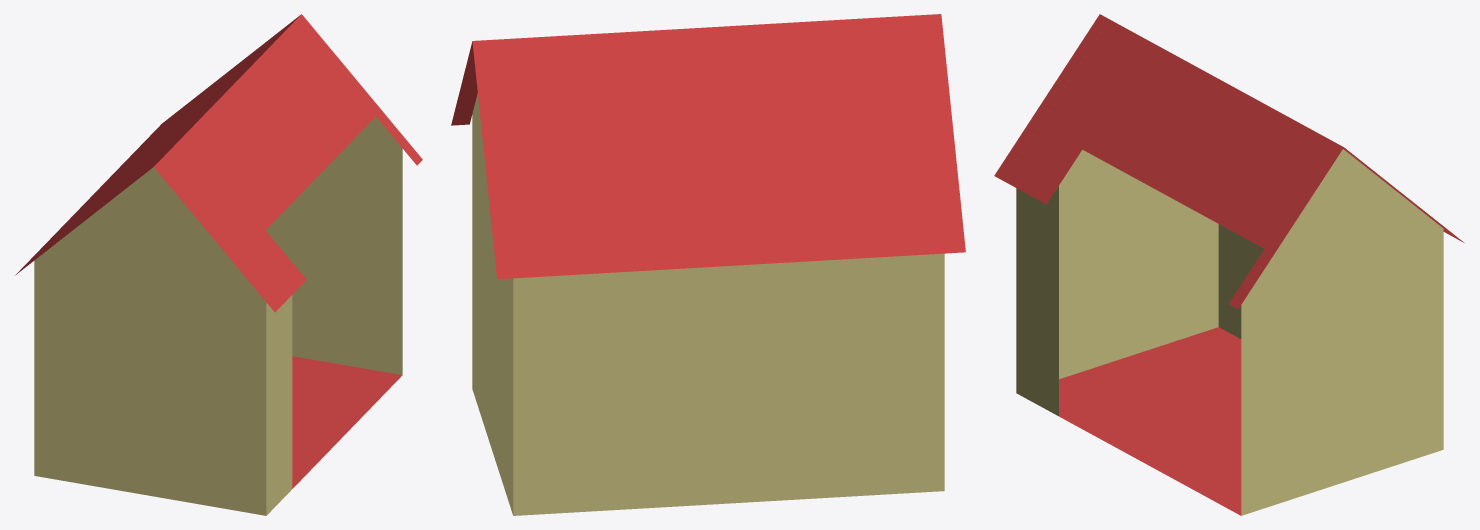
The picture shows the model from 3 angles, left to right: view 1: azimuth 30°, elevation 25°; view 2: azimuth 150°, elevation 25°; view 3: azimuth 270°, elevation 25°; orthographic projection. The views are drawn at different scales.
Bounding box in the file's own units: 15.47 × 14.85 × 11.93.
